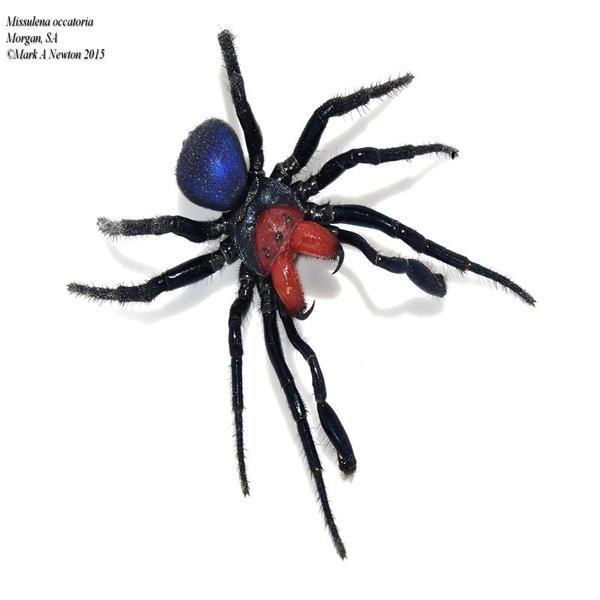Red Headed Mouse Spider: (91, 33, 523, 534)
